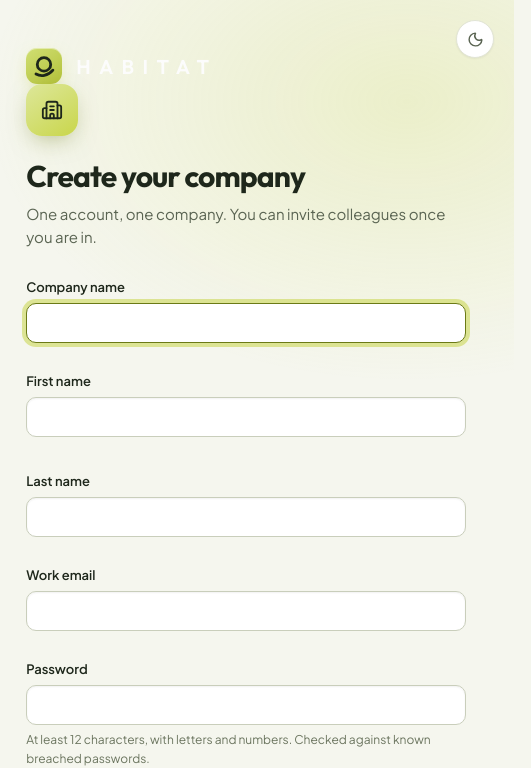
it: creating a company › puts the server’s complaint on the field it belongs to
The width and height of the screenshot is (531, 768).
In the field labelled "Company name": (246, 323) [26,303,466,343], type "Probe Lettings"
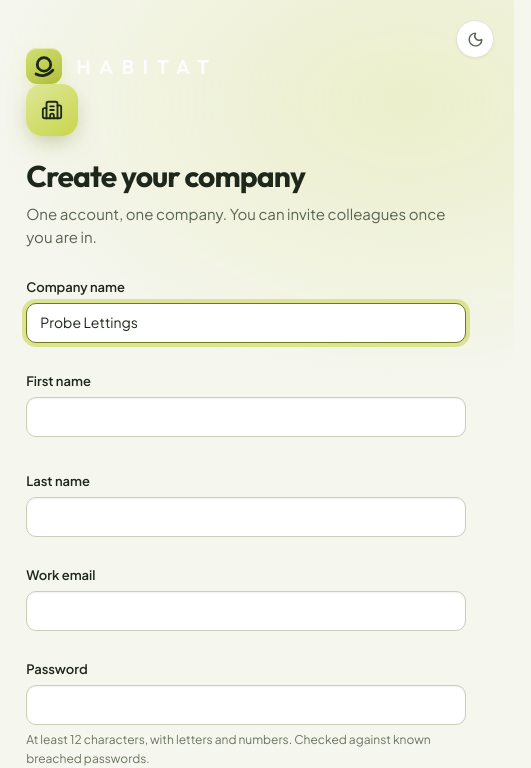
In the field labelled "First name": (246, 417) [26,397,466,437], type "Ana"
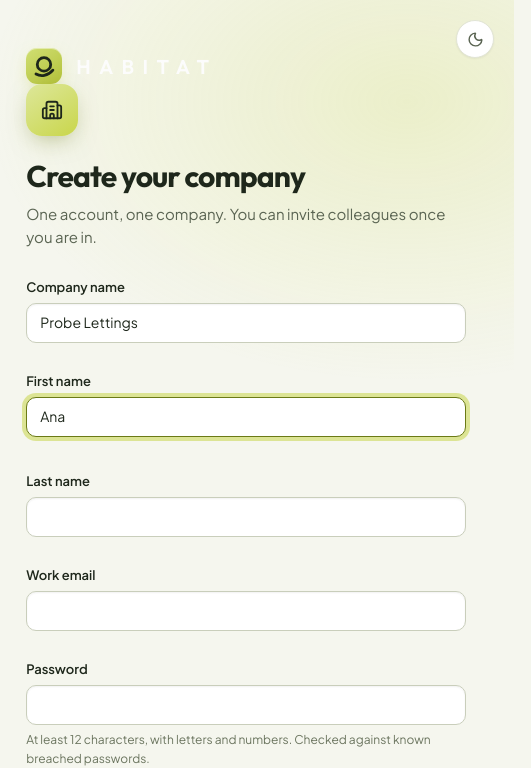
In the field labelled "Work email": (246, 611) [26,591,466,631], type "ana@example.test"
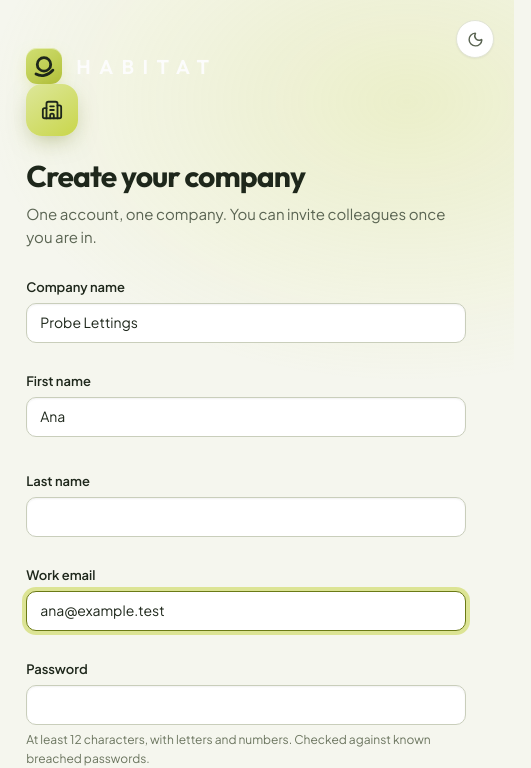
In the password field labelled "Password": (246, 705) [26,685,466,725], type "correct-horse-battery-9"
(page scrolled)
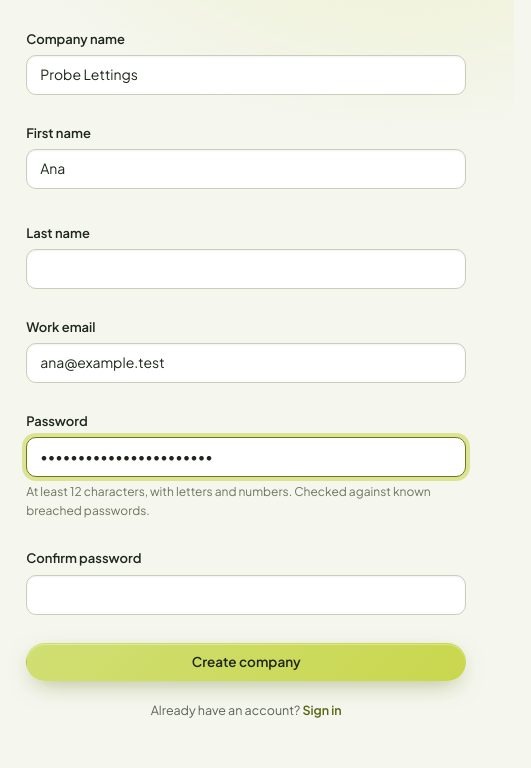
In the password field labelled "Confirm password": (246, 594) [26,574,466,614], type "correct-horse-battery-9"
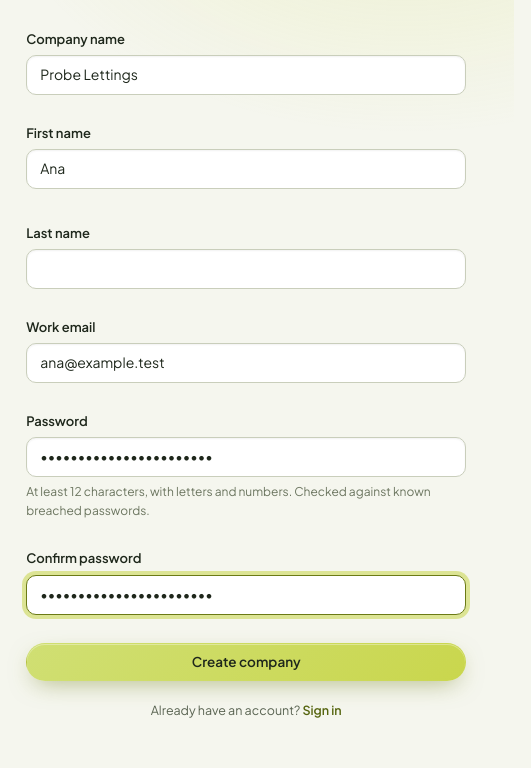
Click the button "Create company": (246, 662) [26,642,466,680]
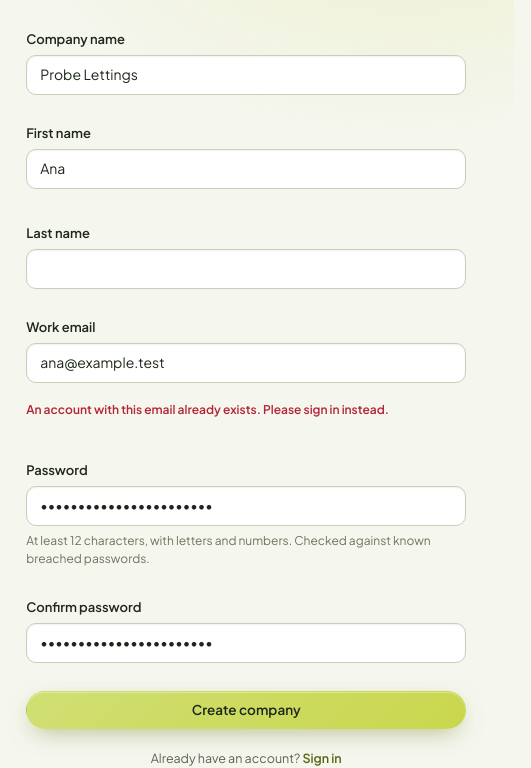
Result: the text "An account with this email already exists. Please sign in instead." is shown at [26,402,389,417]
